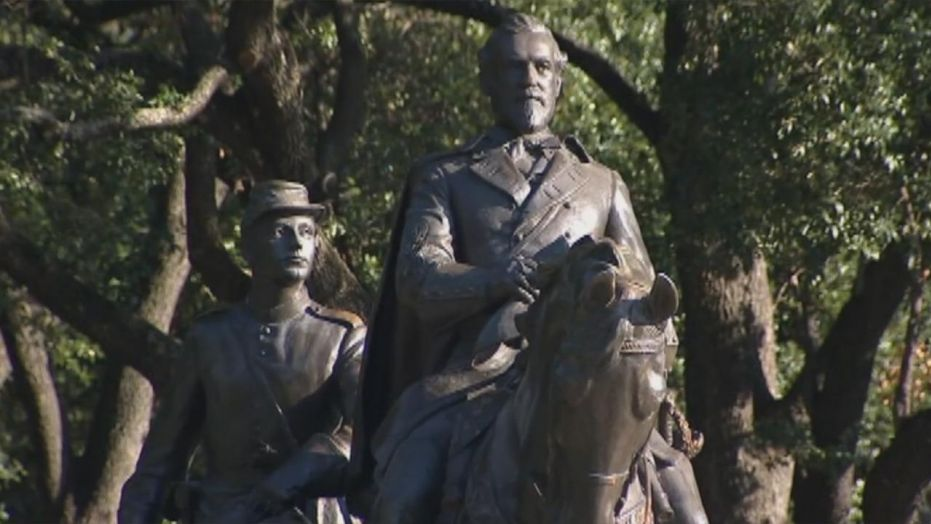person-like: (348, 9, 715, 524), (116, 174, 369, 524)
